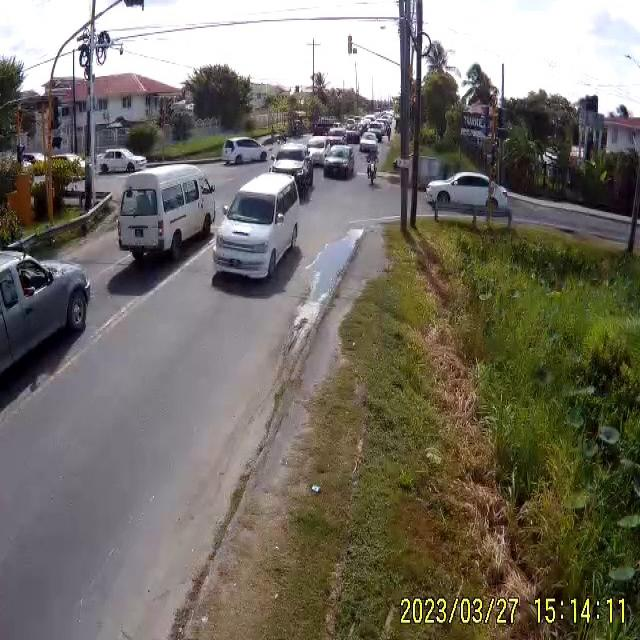car: (1, 247, 92, 433), (213, 173, 303, 281), (116, 165, 214, 264), (425, 172, 511, 222), (96, 148, 148, 174), (224, 138, 268, 166), (272, 146, 309, 179), (323, 145, 353, 180)
motorbike: (362, 144, 381, 190)
